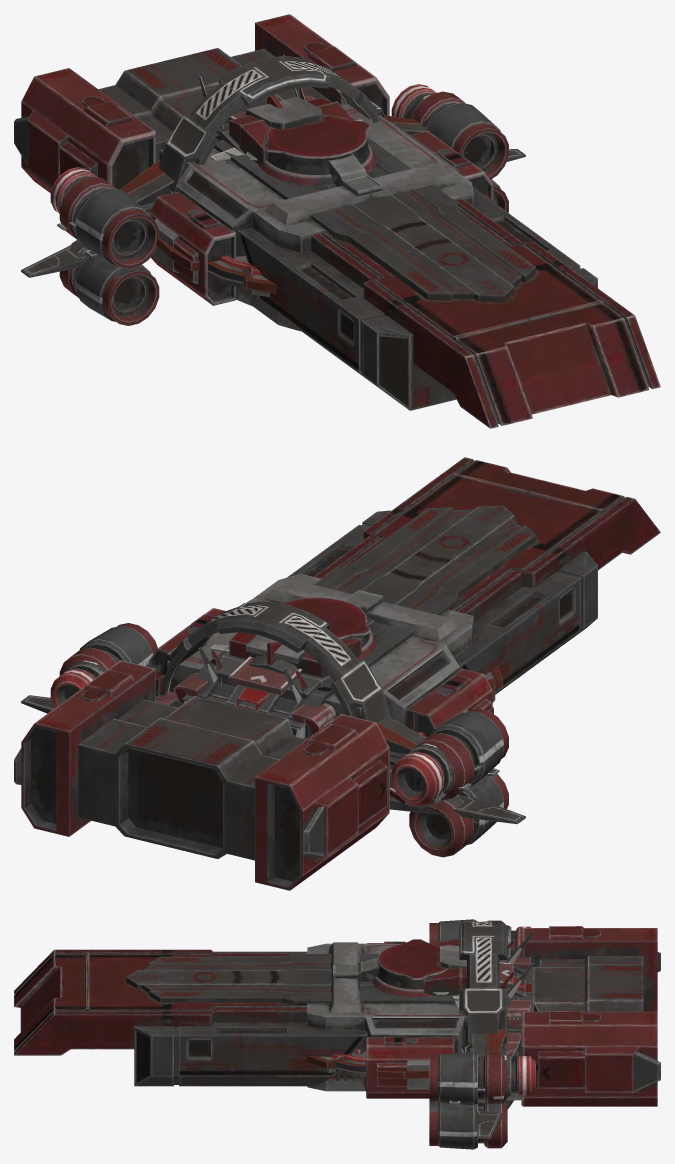
The model's file is voltaris-fleet-ios.glb.
3 views of the same model, one above another, from view 1: azimuth 30°, elevation 25°; view 2: azimuth 150°, elevation 25°; view 3: azimuth 270°, elevation 25° (orthographic). The views are drawn at different scales.
Parts seen in each view (by area): view 1: enemy_33, enemy_29, enemy_31, enemy_43, enemy_10, enemy_53; view 2: enemy_33, enemy_29, enemy_31, enemy_52, enemy_10, enemy_53, enemy_43; view 3: enemy_33, enemy_29, enemy_31, enemy_43, enemy_52, enemy_10, enemy_53, enemy_08.
Boxes of the visible parts, bbox=[...] form: enemy_33: bbox=[14, 14, 660, 428]; enemy_29: bbox=[59, 91, 508, 325]; enemy_31: bbox=[158, 56, 385, 193]; enemy_43: bbox=[68, 115, 493, 298]; enemy_10: bbox=[50, 84, 445, 213]; enemy_53: bbox=[21, 95, 525, 277]; enemy_33: bbox=[14, 457, 660, 890]; enemy_29: bbox=[59, 623, 508, 857]; enemy_31: bbox=[156, 601, 390, 722]; enemy_52: bbox=[155, 649, 336, 738]; enemy_10: bbox=[50, 651, 452, 808]; enemy_53: bbox=[21, 642, 525, 824]; enemy_43: bbox=[147, 644, 502, 771]; enemy_33: bbox=[14, 926, 660, 1106]; enemy_29: bbox=[429, 919, 532, 1149]; enemy_31: bbox=[459, 921, 507, 1052]; enemy_43: bbox=[307, 977, 525, 1091]; enemy_52: bbox=[433, 939, 533, 1058]; enemy_10: bbox=[478, 925, 535, 1100]; enemy_53: bbox=[475, 1099, 513, 1138]; enemy_08: bbox=[493, 931, 534, 1099].
Size of the model in its own units: 12.78 by 5.43 by 18.55.
Materials: 67 (67 with a texture image).
